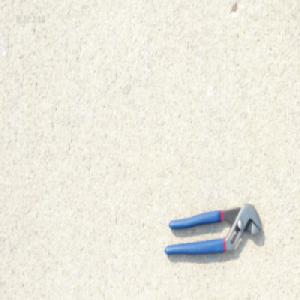Pliers: (162, 201, 263, 258)
